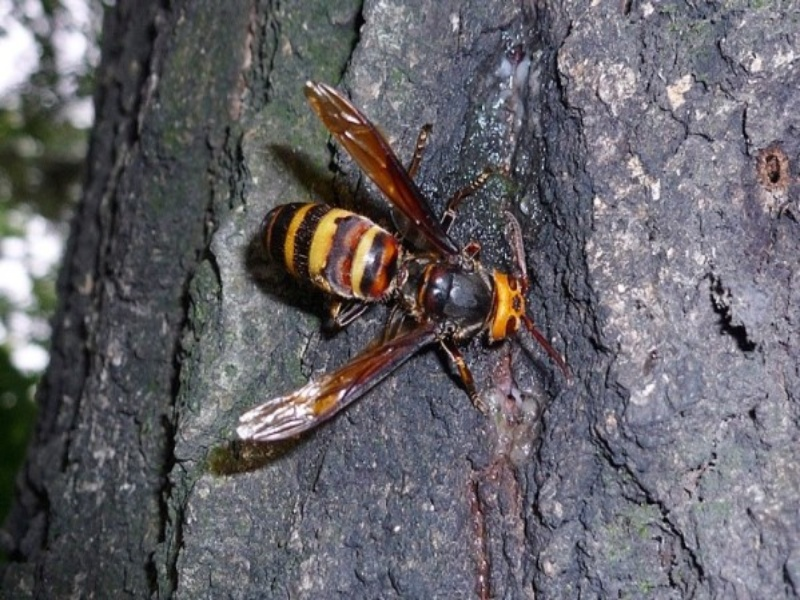asian_giant_hornet: (260, 195, 533, 387)
